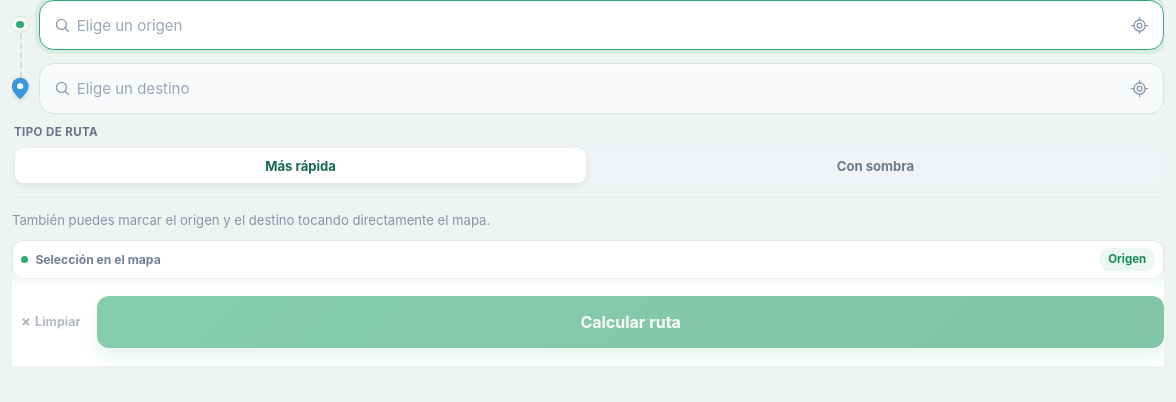
it: RouteSearchPanel › selects an autocomplete result for the active input
Type "Pilar" into the dropdown labelled "origen".
click(596, 25); type("Pilar")  # box [77,5,1115,46]
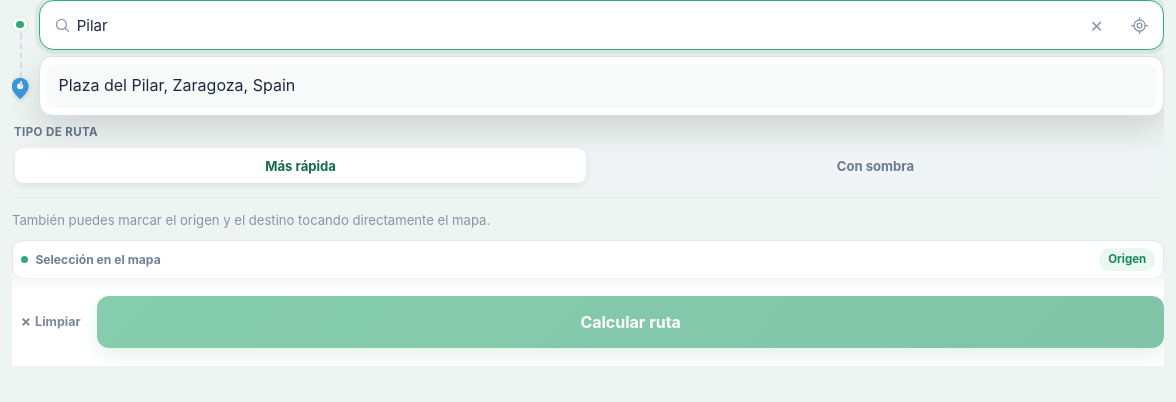
Click the option "Plaza del Pilar, Zaragoza, Spain".
click(177, 85)  # box [47,64,1156,108]
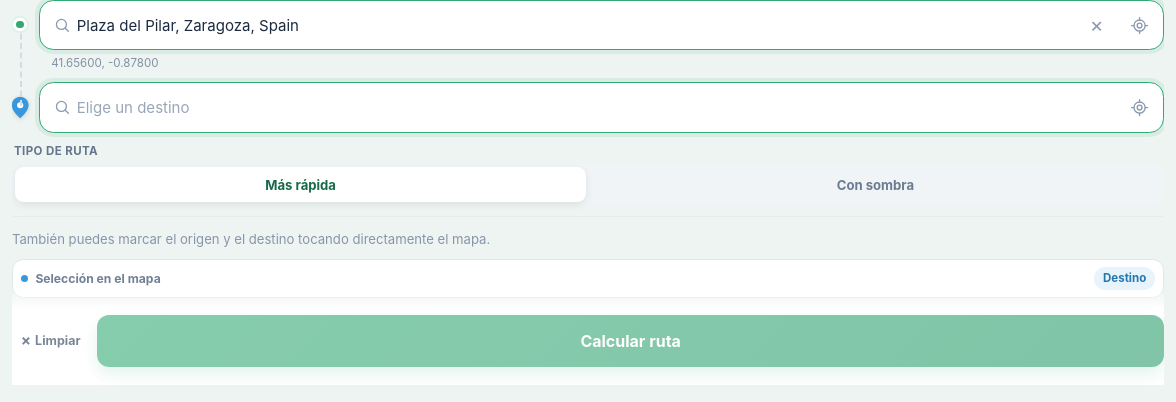
Result: the dropdown named "origen" holds "Plaza del Pilar, Zaragoza, Spain" at [77,5,1072,46]
Result: the text "41.65600, -0.87800" is shown at [51,56,158,70]
Result: the list is gone
